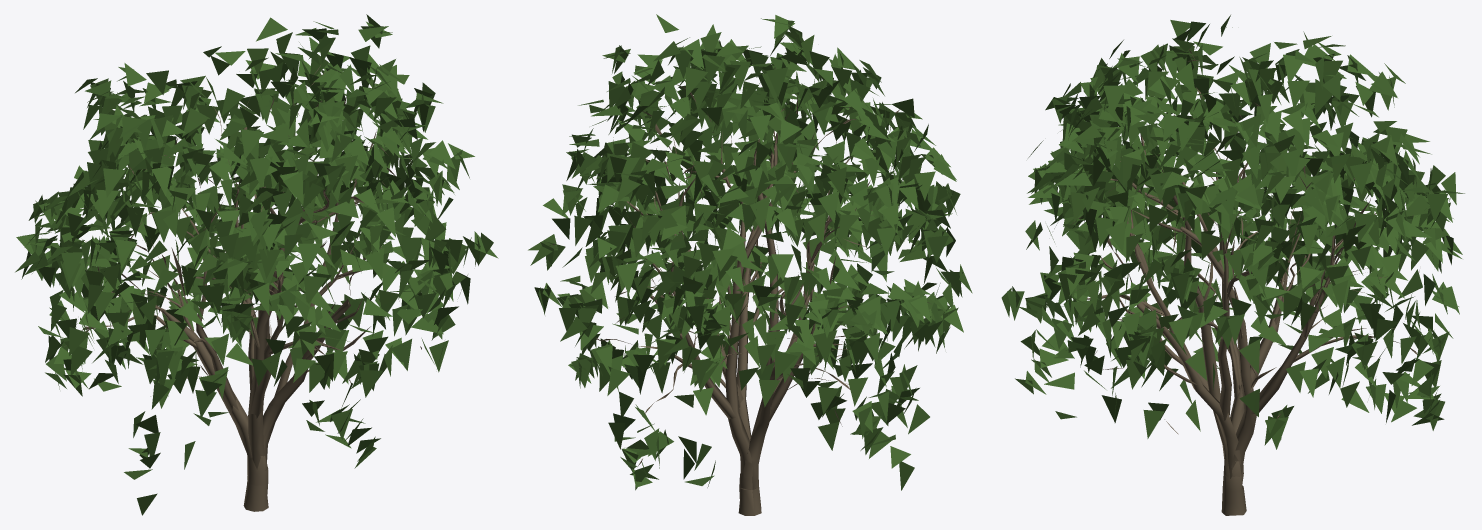
The model's file is tree_broad_far.glb.
3 renders of one model, left to right at view 1: azimuth 30°, elevation 25°; view 2: azimuth 150°, elevation 25°; view 3: azimuth 270°, elevation 25°, orthographic. The views are drawn at different scales.
Visible parts, largest first — view 1: bq_Tree_Celtis-occidentalis_A_summer, bq_Tree_Celtis-occidentalis_A_summer.001; view 2: bq_Tree_Celtis-occidentalis_A_summer, bq_Tree_Celtis-occidentalis_A_summer.001; view 3: bq_Tree_Celtis-occidentalis_A_summer, bq_Tree_Celtis-occidentalis_A_summer.001.
Part boxes in pixels (box(x1,y1,x2,y2)): bq_Tree_Celtis-occidentalis_A_summer: box(15, 14, 498, 515); bq_Tree_Celtis-occidentalis_A_summer.001: box(64, 65, 421, 511); bq_Tree_Celtis-occidentalis_A_summer: box(528, 14, 972, 490); bq_Tree_Celtis-occidentalis_A_summer.001: box(549, 67, 929, 515); bq_Tree_Celtis-occidentalis_A_summer: box(1001, 15, 1464, 449); bq_Tree_Celtis-occidentalis_A_summer.001: box(1057, 49, 1419, 515).
Size of the model in its own units: 5.21 by 5.76 by 5.12.
